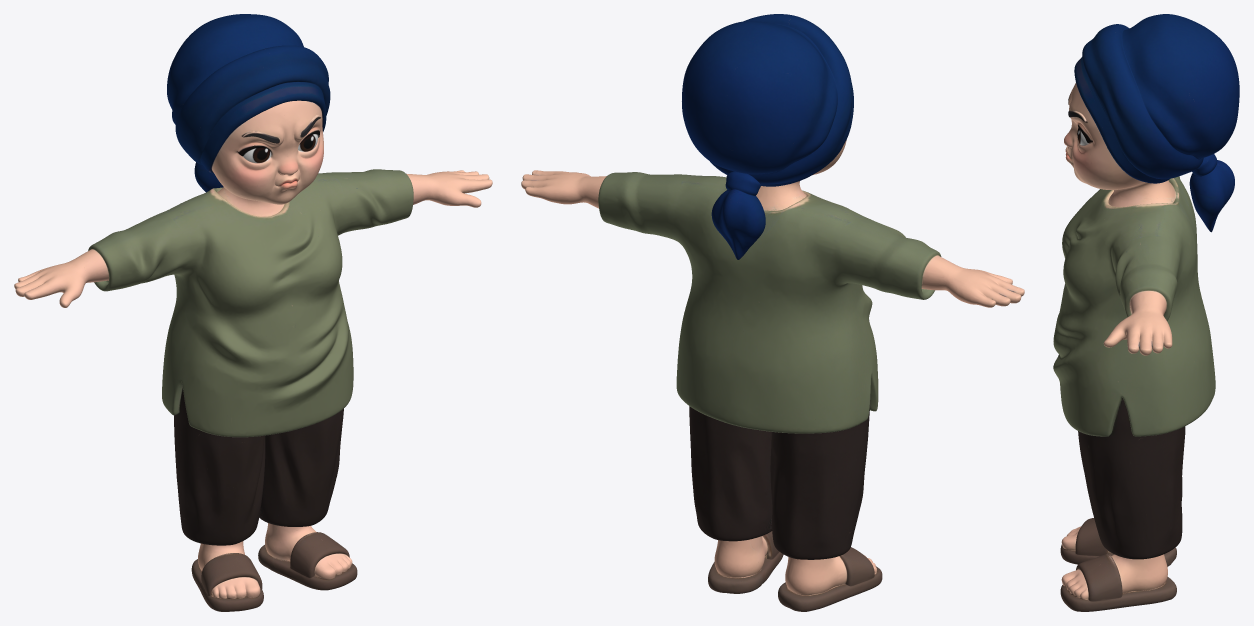
Rendered from Meshy_AI_Tiny_Defiant_Guardian_20261030_texture.fbx.
3 views of the same model, side by side, from view 1: azimuth 30°, elevation 25°; view 2: azimuth 150°, elevation 25°; view 3: azimuth 270°, elevation 25° (orthographic). The views are drawn at different scales.
Parts seen in each view (by area): view 1: Mesh_0; view 2: Mesh_0; view 3: Mesh_0.
Boxes of the visible parts, x1,y1,x2,y2 form: Mesh_0: [14, 14, 492, 611]; Mesh_0: [521, 14, 1024, 611]; Mesh_0: [1053, 14, 1239, 611].
Bounding box in the file's own units: 173 × 190 × 57.85.
1 material, 1 textured.
